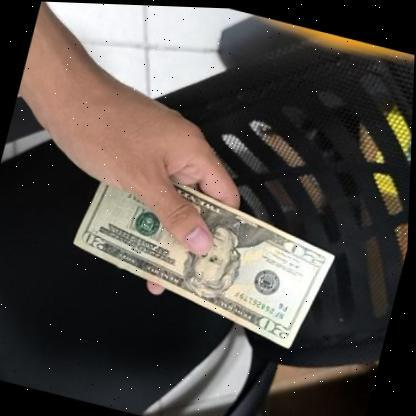twenty-front: (58, 155, 348, 356)
